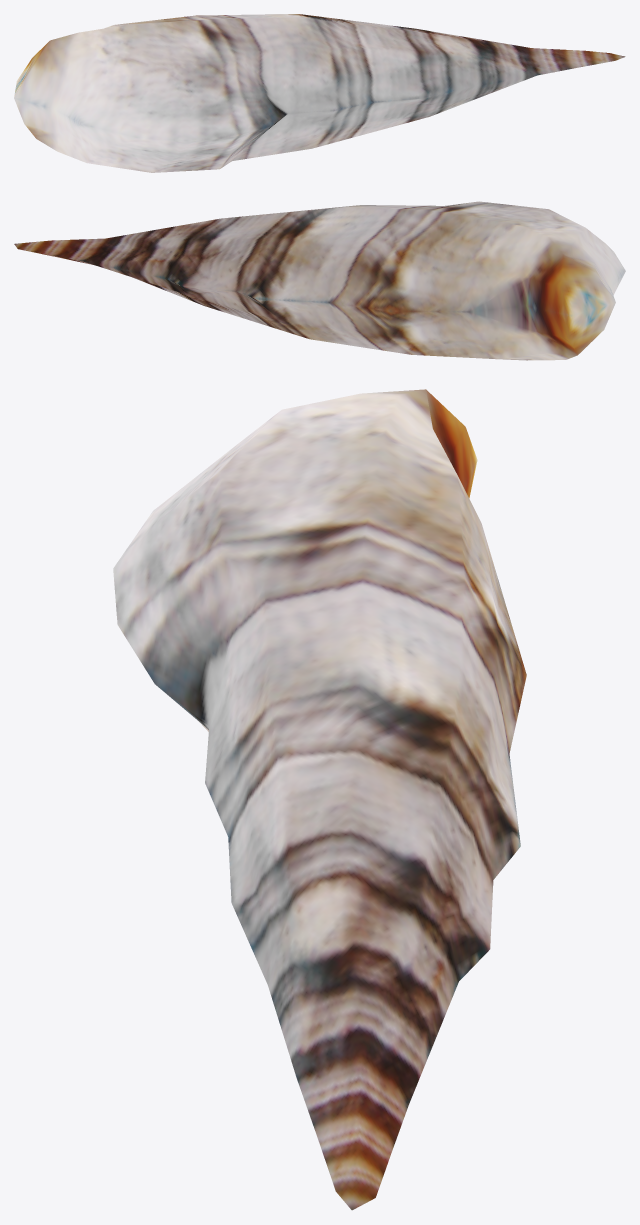
Rendered from SeaShell-04_LOD0_FattooCreater.glb.
3 views of the same model, one above another, from view 1: azimuth 30°, elevation 25°; view 2: azimuth 150°, elevation 25°; view 3: azimuth 270°, elevation 25° (orthographic). The views are drawn at different scales.
Visible parts, largest first — view 1: SeaShell-04_high; view 2: SeaShell-04_high; view 3: SeaShell-04_high.
Part boxes in pixels (x1,y1,x2,y2): SeaShell-04_high: (14, 14, 625, 172); SeaShell-04_high: (14, 201, 625, 360); SeaShell-04_high: (113, 389, 526, 1210).
Bounding box in the file's own units: 0.0294 × 0.00724 × 0.00877.
1 material, 1 textured.
